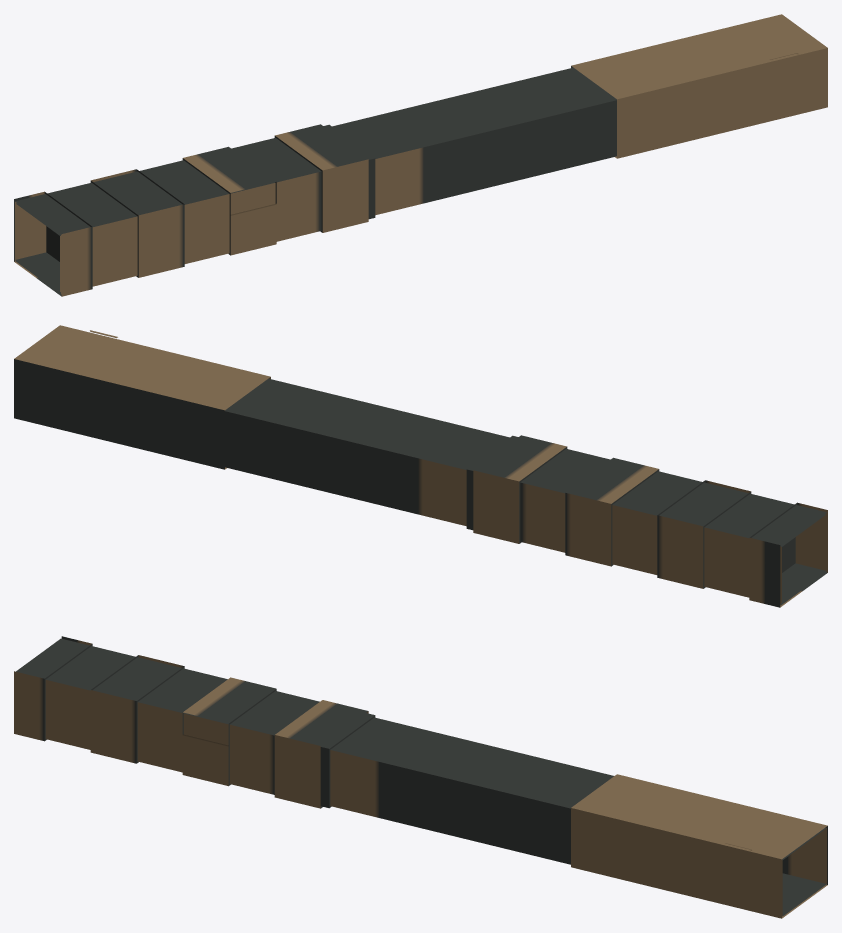
File: section-5.obj
3 renders of one model, top to bottom at view 1: azimuth 30°, elevation 25°; view 2: azimuth 150°, elevation 25°; view 3: azimuth 330°, elevation 25°, orthographic.
Bounding box in the file's own units: 1 × 0.078 × 0.108.
